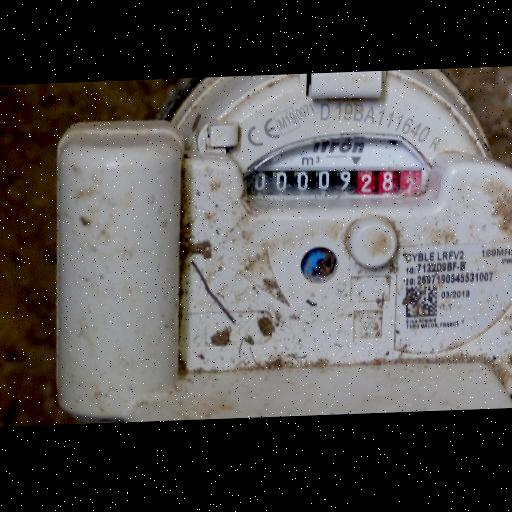0: (247, 169, 274, 195), (293, 169, 315, 194), (316, 170, 337, 194), (273, 170, 293, 195)
2: (398, 169, 422, 196), (358, 170, 378, 195)
8: (376, 170, 398, 196)
9: (336, 170, 358, 195)
border_water_meter_number: (244, 159, 428, 206)
